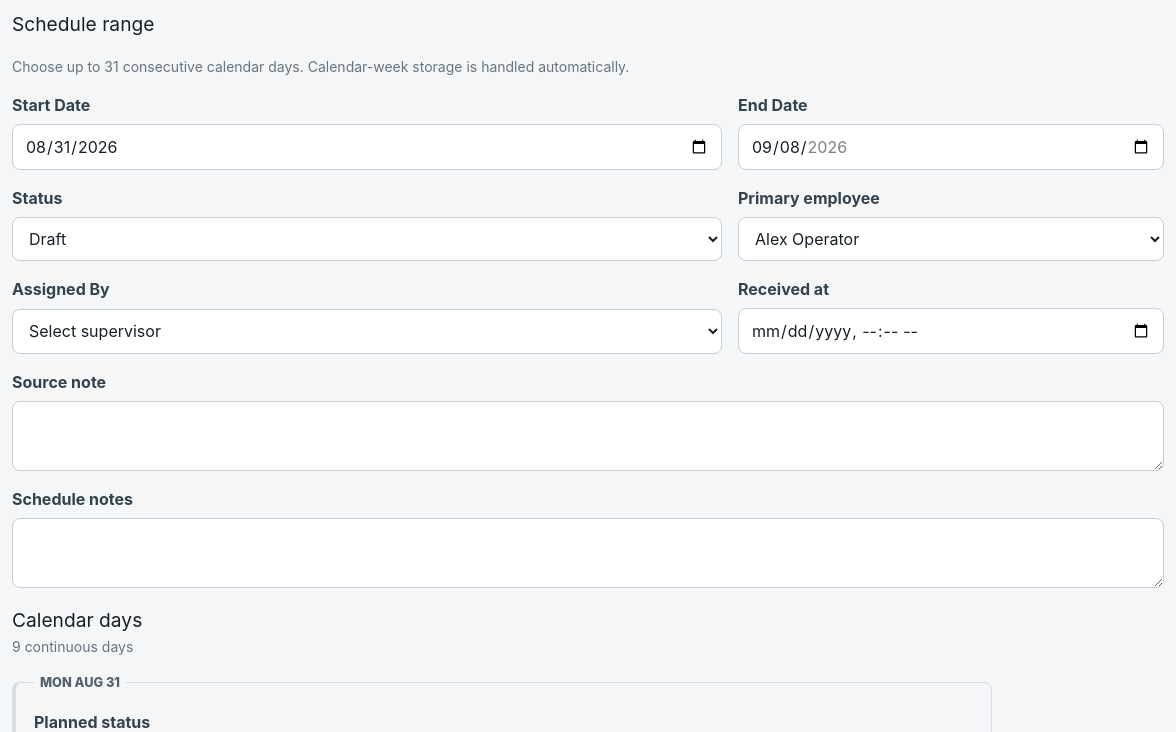
Test: ScheduleRangeForm › rebuilds the continuous rows when the selected range changes
Type "2026-09-03" into the date field labelled "End Date" at [951, 147], box x1=738 y1=124 x2=1164 y2=170
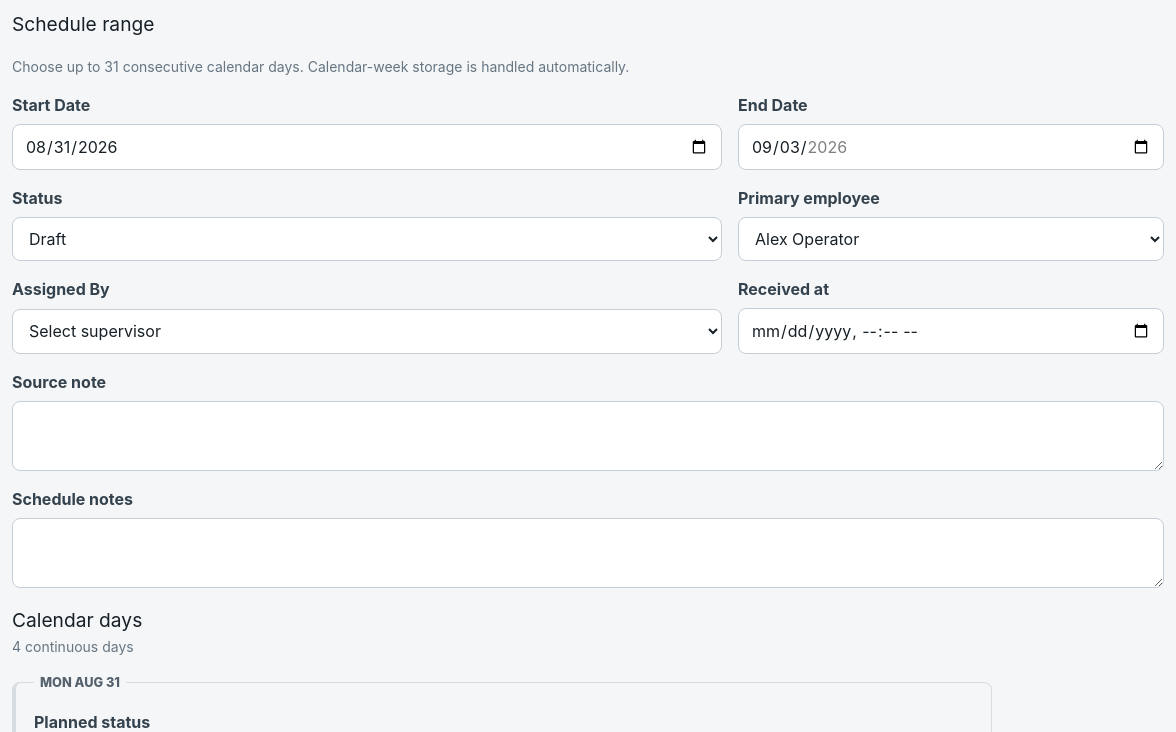
Now the text "4 continuous days" is shown, box x1=12 y1=636 x2=142 y2=657
